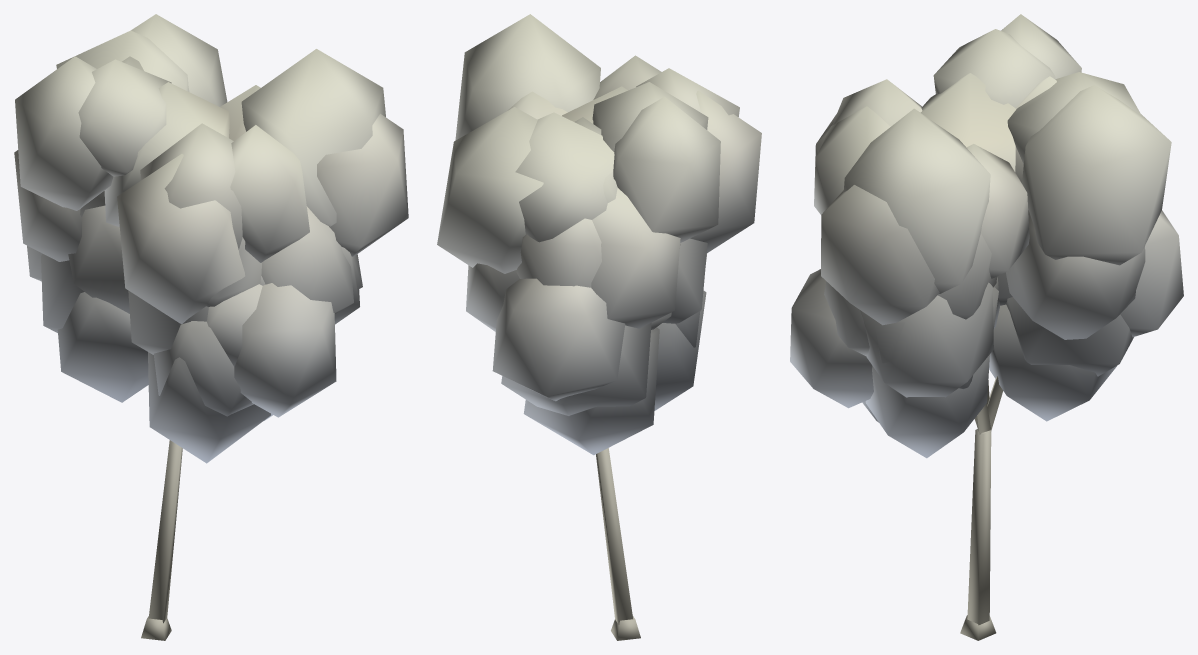
3 renders of one model, left to right at view 1: azimuth 30°, elevation 25°; view 2: azimuth 150°, elevation 25°; view 3: azimuth 270°, elevation 25°, orthographic. The views are drawn at different scales.
Parts seen in each view (by area): view 1: crown, trunk; view 2: crown, trunk; view 3: crown, trunk.
Boxes of the visible parts, bbox=[...] form: crown: bbox=[14, 14, 408, 463]; trunk: bbox=[141, 440, 182, 640]; crown: bbox=[437, 14, 761, 455]; trunk: bbox=[596, 448, 640, 640]; crown: bbox=[790, 14, 1183, 458]; trunk: bbox=[960, 376, 1002, 640].
Size of the model in its own units: 12.23 by 21.3 by 12.9.
